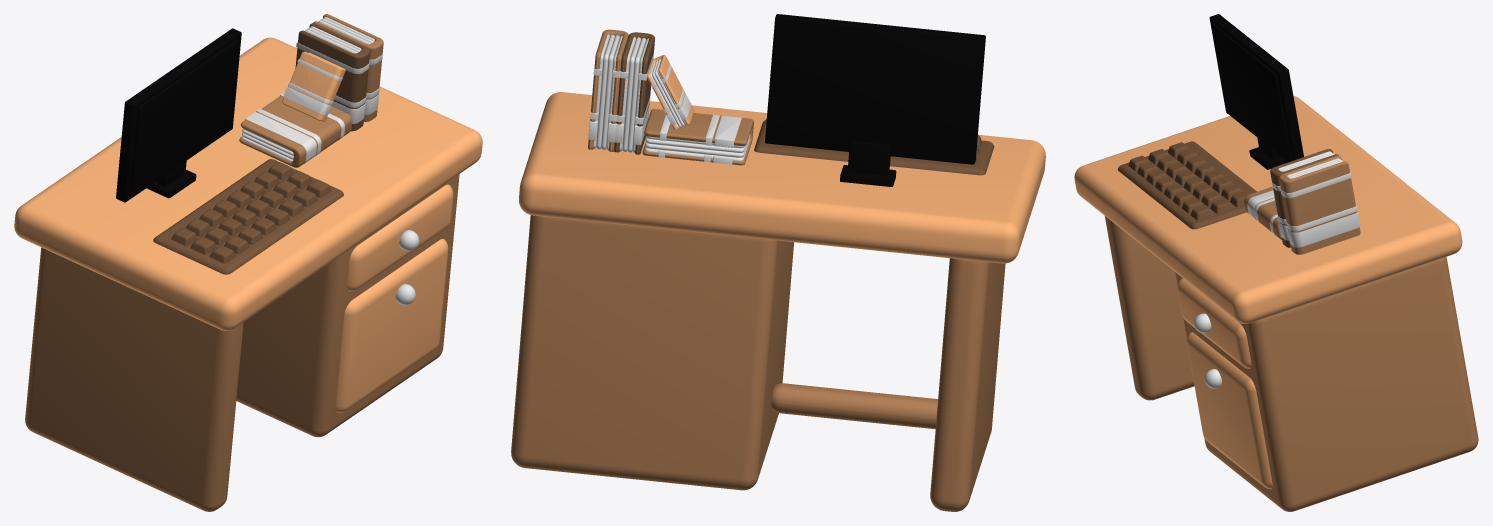
The model's file is Study Table.fbx.
3 renders of one model, left to right at view 1: azimuth 30°, elevation 25°; view 2: azimuth 150°, elevation 25°; view 3: azimuth 270°, elevation 25°, orthographic. The views are drawn at different scales.
Visible parts, largest first — view 1: Cube.170, Cube.166, Cube.165, Cube.168, Cube.174, Cube.195, Cube.167, Cube.196, Cube.171, Cube.175, Cube.180, Cube.190 (+5 smaller); view 2: Cube.165, Cube.170, Cube.171, Cube.166, Cube.169, Cube.196, Cube.175, Cube.184, Cube.189, Cube.179, Cube.180, Cube.173 (+5 smaller); view 3: Cube.165, Cube.170, Cube.166, Cube.168, Cube.174, Cube.195, Cube.185, Cube.167, Cube.196, Cube.171, Cube.186, Cube.180 (+1 smaller).
Part boxes in pixels (<box>): Cube.170: <box>14,37,482,330</box>; Cube.166: <box>25,247,243,511</box>; Cube.165: <box>236,174,459,437</box>; Cube.168: <box>335,239,448,413</box>; Cube.174: <box>130,39,239,196</box>; Cube.195: <box>171,162,331,263</box>; Cube.167: <box>347,184,453,291</box>; Cube.196: <box>153,159,343,274</box>; Cube.171: <box>116,28,241,202</box>; Cube.175: <box>239,95,352,167</box>; Cube.180: <box>295,23,370,131</box>; Cube.190: <box>282,51,345,121</box>; Cube.165: <box>511,215,793,490</box>; Cube.170: <box>519,92,1045,263</box>; Cube.171: <box>765,14,985,164</box>; Cube.166: <box>930,258,1005,511</box>; Cube.169: <box>771,383,937,429</box>; Cube.196: <box>754,119,994,175</box>; Cube.175: <box>642,109,753,165</box>; Cube.184: <box>619,37,648,152</box>; Cube.189: <box>593,34,622,150</box>; Cube.179: <box>644,134,750,160</box>; Cube.180: <box>614,32,654,154</box>; Cube.173: <box>847,141,890,175</box>; Cube.165: <box>1175,257,1478,511</box>; Cube.170: <box>1074,96,1462,323</box>; Cube.166: <box>1105,216,1194,400</box>; Cube.168: <box>1187,332,1272,489</box>; Cube.174: <box>1210,23,1291,161</box>; Cube.195: <box>1128,142,1247,220</box>; Cube.185: <box>1279,155,1360,254</box>; Cube.167: <box>1177,278,1251,368</box>; Cube.196: <box>1117,141,1256,229</box>; Cube.171: <box>1209,14,1303,162</box>; Cube.186: <box>1287,212,1360,247</box>; Cube.180: <box>1270,149,1338,247</box>.
Size of the model in its own units: 530 by 466 by 458.
